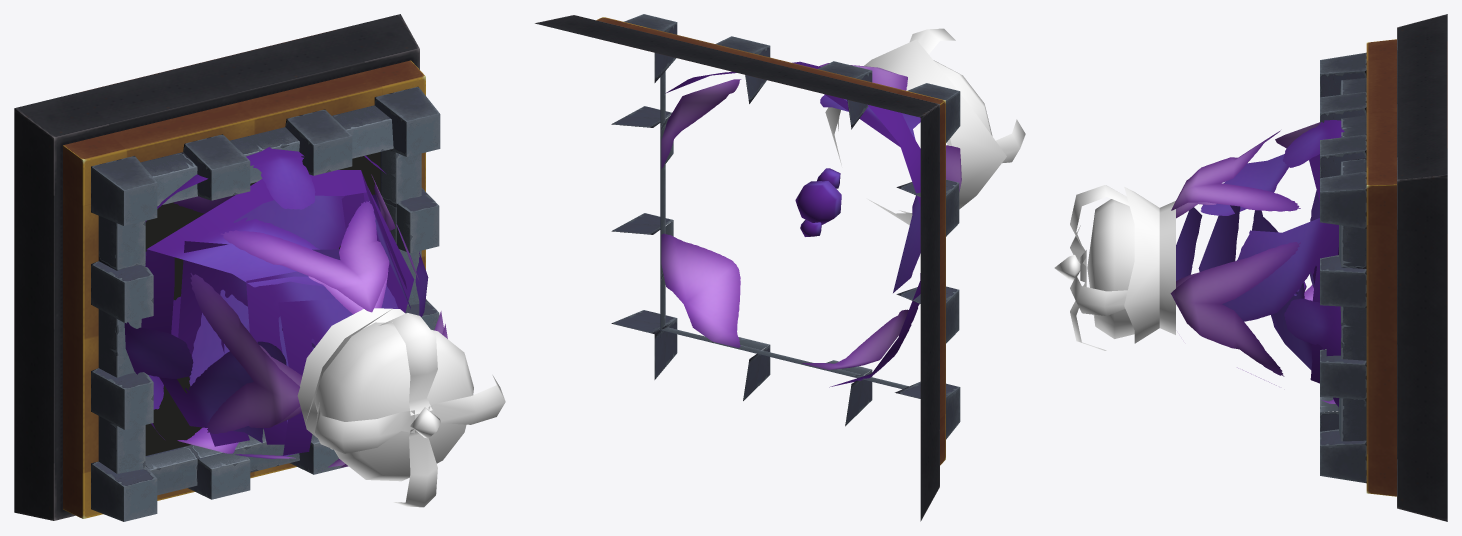
File: jellyking_x3_01.glb
The picture shows the model from 3 angles, left to right: view 1: azimuth 30°, elevation 25°; view 2: azimuth 150°, elevation 25°; view 3: azimuth 270°, elevation 25°; orthographic projection. The views are drawn at different scales.
Visible parts, largest first — view 1: boss.jellyking_x3_01-MeshNodes["trophy_jellyking_t3"], boss.jellyking_x3_01-MeshNodes["trophy_jellyking_t3_crenel"], boss.jellyking_x3_01-MeshNodes["trophy_jellyking_t3_inner"], parts.model_hat-Mesh[0], boss.jellyking_x3_01-MeshNodes["trophy_jellyking_t3_outer"]; view 2: boss.jellyking_x3_01-MeshNodes["trophy_jellyking_t3"], boss.jellyking_x3_01-MeshNodes["trophy_jellyking_t3_crenel"], boss.jellyking_x3_01-MeshNodes["trophy_jellyking_t3_inner"], parts.model_hat-Mesh[0], boss.jellyking_x3_01-MeshNodes["trophy_jellyking_t3_outer"]; view 3: boss.jellyking_x3_01-MeshNodes["trophy_jellyking_t3"], boss.jellyking_x3_01-MeshNodes["trophy_jellyking_t3_crenel"], boss.jellyking_x3_01-MeshNodes["trophy_jellyking_t3_outer"], parts.model_hat-Mesh[0], boss.jellyking_x3_01-MeshNodes["trophy_jellyking_t3_inner"].
Part boxes in pixels (left/top/right/bottom): boss.jellyking_x3_01-MeshNodes["trophy_jellyking_t3"]: left=14, top=14, right=425, bottom=520; boss.jellyking_x3_01-MeshNodes["trophy_jellyking_t3_crenel"]: left=91, top=86, right=440, bottom=521; boss.jellyking_x3_01-MeshNodes["trophy_jellyking_t3_inner"]: left=141, top=169, right=443, bottom=467; parts.model_hat-Mesh[0]: left=297, top=308, right=505, bottom=507; boss.jellyking_x3_01-MeshNodes["trophy_jellyking_t3_outer"]: left=124, top=147, right=447, bottom=470; boss.jellyking_x3_01-MeshNodes["trophy_jellyking_t3"]: left=535, top=15, right=945, bottom=521; boss.jellyking_x3_01-MeshNodes["trophy_jellyking_t3_crenel"]: left=611, top=14, right=960, bottom=439; boss.jellyking_x3_01-MeshNodes["trophy_jellyking_t3_inner"]: left=661, top=79, right=920, bottom=369; parts.model_hat-Mesh[0]: left=825, top=28, right=1025, bottom=225; boss.jellyking_x3_01-MeshNodes["trophy_jellyking_t3_outer"]: left=665, top=61, right=961, bottom=387; boss.jellyking_x3_01-MeshNodes["trophy_jellyking_t3"]: left=1366, top=14, right=1447, bottom=521; boss.jellyking_x3_01-MeshNodes["trophy_jellyking_t3_crenel"]: left=1320, top=52, right=1366, bottom=483; boss.jellyking_x3_01-MeshNodes["trophy_jellyking_t3_outer"]: left=1170, top=120, right=1344, bottom=406; parts.model_hat-Mesh[0]: left=1054, top=185, right=1175, bottom=350; boss.jellyking_x3_01-MeshNodes["trophy_jellyking_t3_inner"]: left=1176, top=122, right=1338, bottom=403.
Size of the model in its own units: 3.02 by 3.02 by 3.11.
4 materials, 3 textured.
